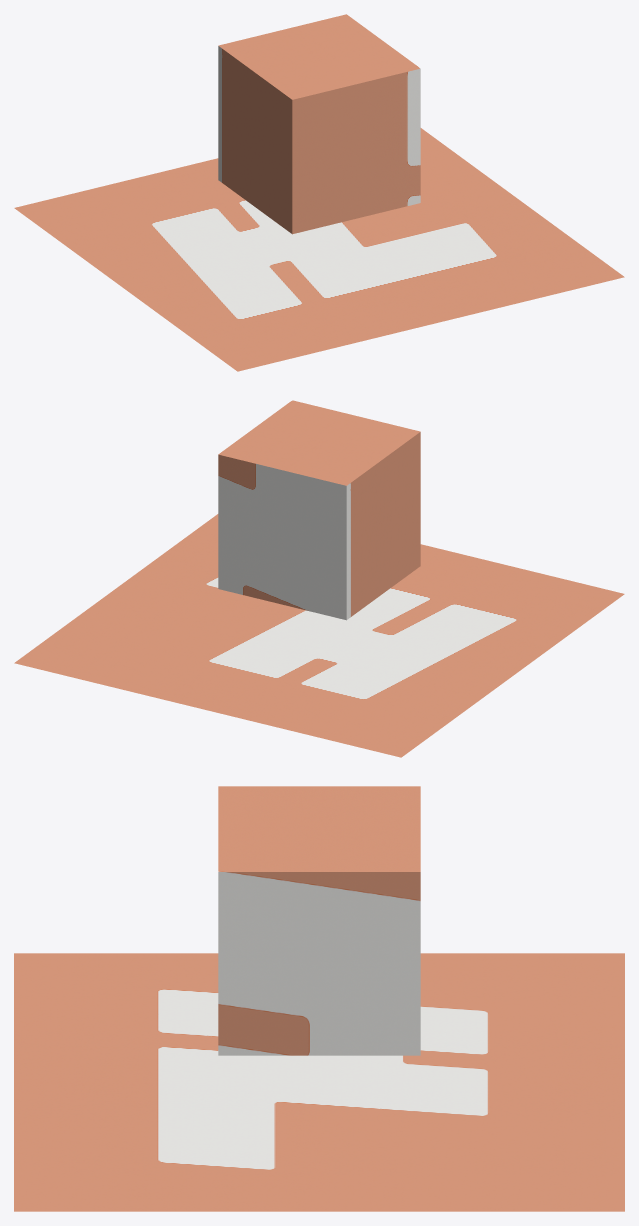
File: testasset.glb
3 views of the same model, one above another, from view 1: azimuth 30°, elevation 25°; view 2: azimuth 150°, elevation 25°; view 3: azimuth 270°, elevation 25° (orthographic). The views are drawn at different scales.
Visible parts, largest first — view 1: Cube; view 2: Cube; view 3: Cube.
Boxes of the visible parts, x1,y1,x2,y2 form: Cube: (14,14,624,371); Cube: (14,400,624,757); Cube: (14,786,624,1211).
Bounding box in the file's own units: 2 × 0.9153 × 2.
1 material, 1 textured.
